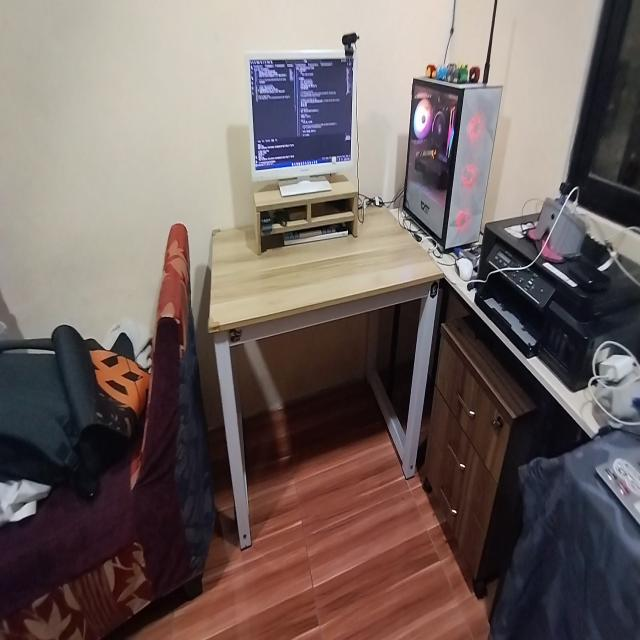table: (206, 200, 442, 519)
